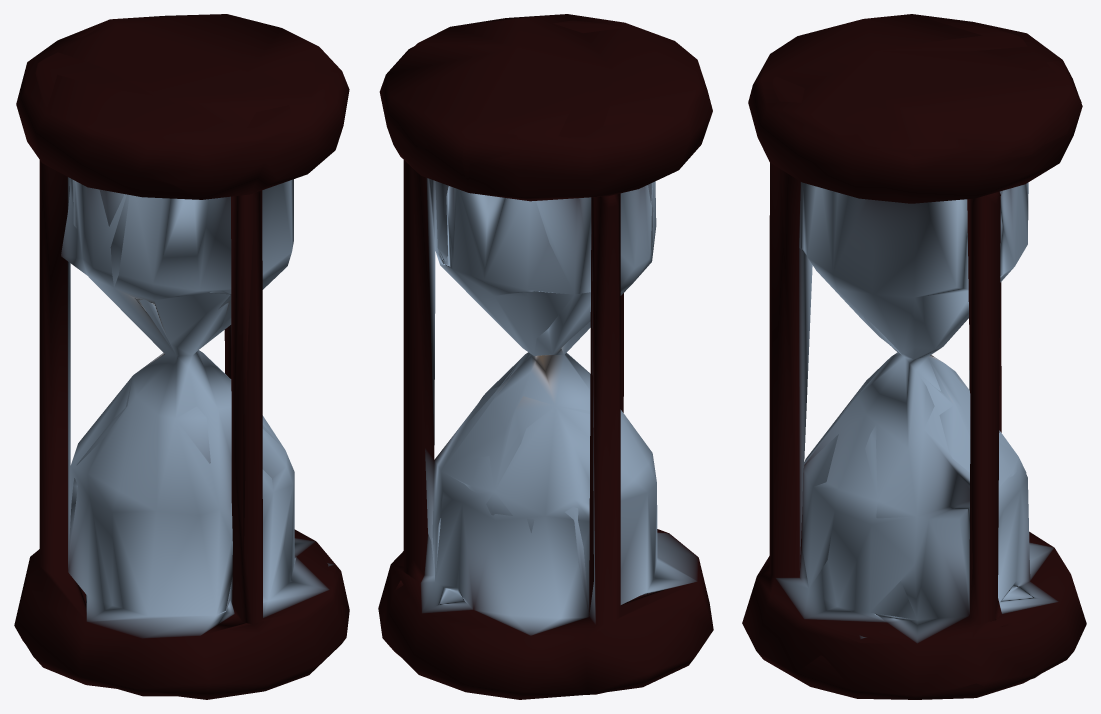
File: gen3d-hourglass-lod1.glb
3 views of the same model, side by side, from view 1: azimuth 30°, elevation 25°; view 2: azimuth 150°, elevation 25°; view 3: azimuth 270°, elevation 25° (orthographic).
Visible parts, largest first — view 1: part_0; view 2: part_0; view 3: part_0.
Part boxes in pixels (x1=…): part_0: x1=14, y1=14, x2=349, y2=699; part_0: x1=378, y1=14, x2=713, y2=699; part_0: x1=742, y1=14, x2=1086, y2=699.
Bounding box in the file's own units: 0.5519 × 0.9995 × 0.5506.
